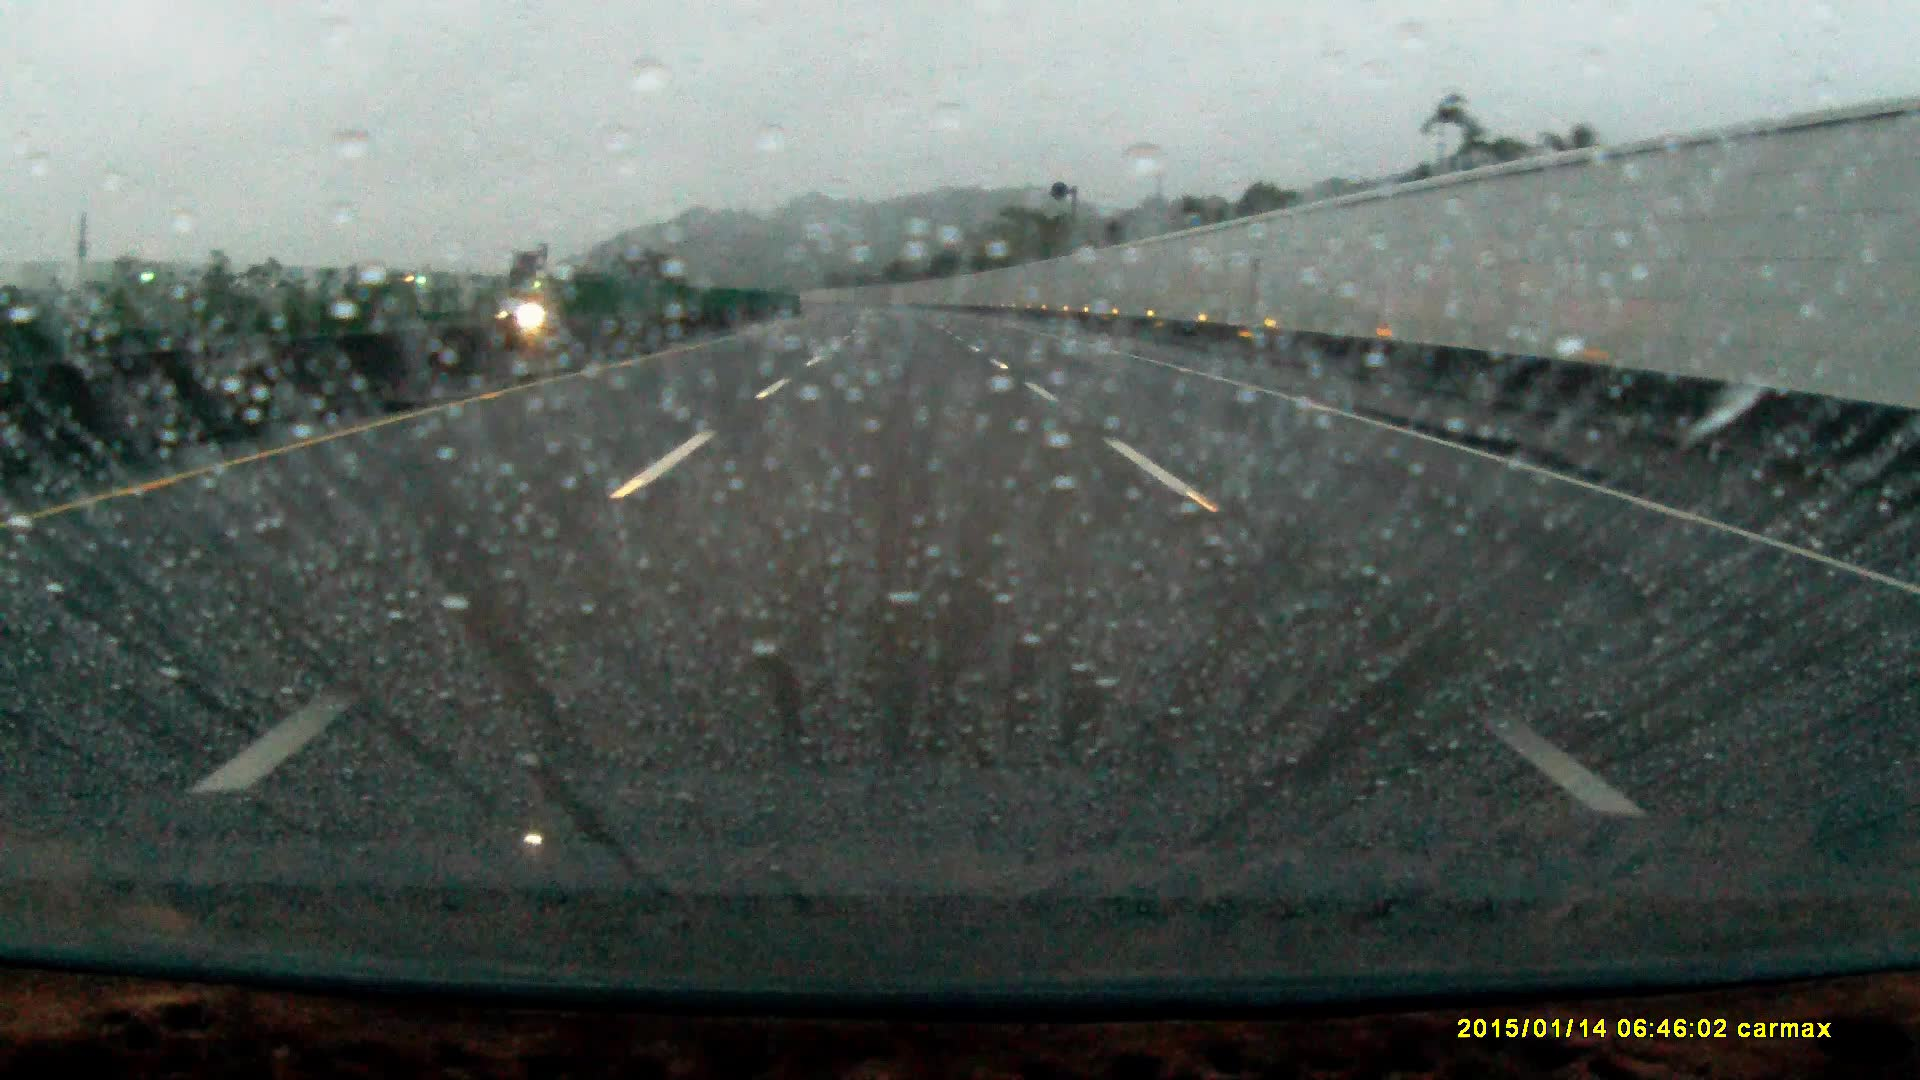vehicle: (484, 290, 560, 327)
